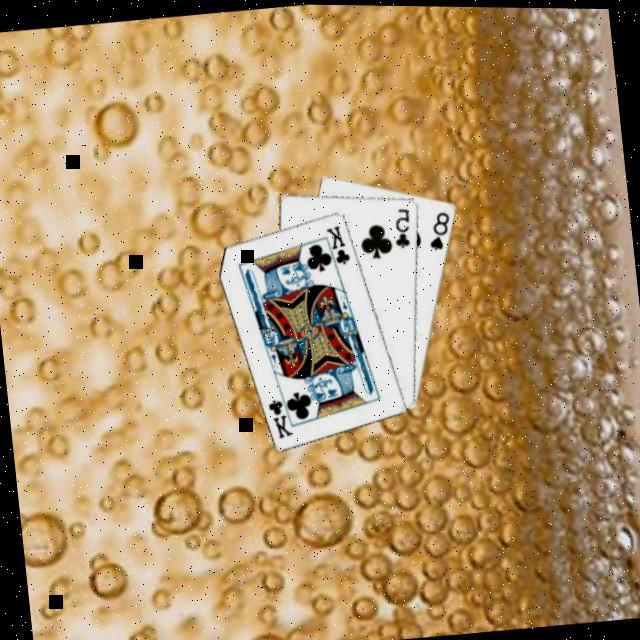5C: (390, 204, 417, 252)
8S: (425, 208, 457, 255)
KC: (264, 388, 300, 442), (320, 221, 354, 275)
